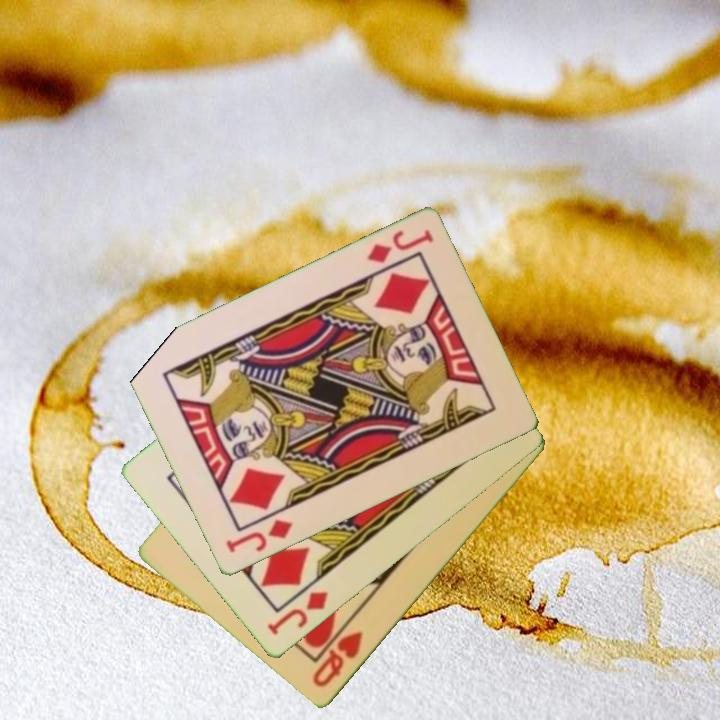Jd: (264, 588, 332, 639), (222, 516, 296, 557), (363, 226, 436, 267)
Qh: (308, 628, 366, 691)
